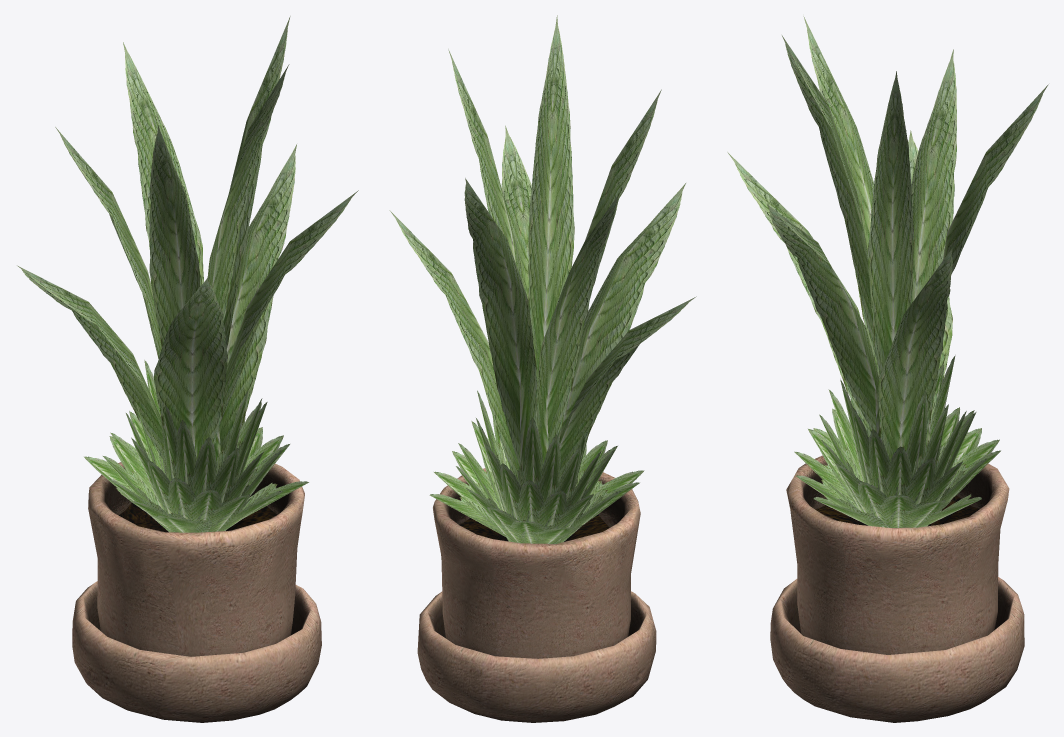
The model's file is Indoor plant 3 Mine with pot.fbx.
The picture shows the model from 3 angles, left to right: view 1: azimuth 30°, elevation 25°; view 2: azimuth 150°, elevation 25°; view 3: azimuth 270°, elevation 25°; orthographic projection. The views are drawn at different scales.
Parts seen in each view (by area): view 1: Low-Poly Plant_.001, Low-Poly Plant_; view 2: Low-Poly Plant_.001, Low-Poly Plant_; view 3: Low-Poly Plant_.001, Low-Poly Plant_.
Boxes of the visible parts, x1=… form: Low-Poly Plant_.001: x1=17, y1=16, x2=358, y2=532; Low-Poly Plant_: x1=72, y1=462, x2=321, y2=722; Low-Poly Plant_.001: x1=389, y1=15, x2=696, y2=543; Low-Poly Plant_: x1=417, y1=468, x2=656, y2=722; Low-Poly Plant_.001: x1=727, y1=16, x2=1048, y2=527; Low-Poly Plant_: x1=770, y1=455, x2=1024, y2=722.
Size of the model in its own units: 65.33 by 135 by 59.29.
2 materials, 2 textured.
